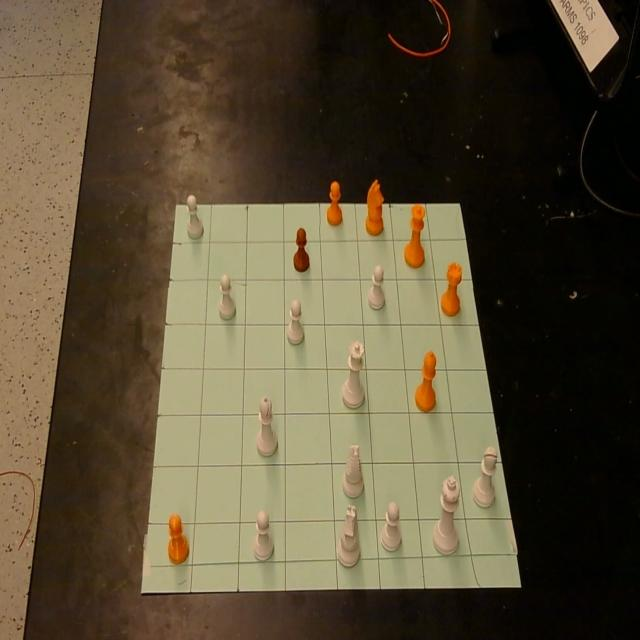orange_knight: (365, 179, 385, 236)
orange_pawn: (168, 513, 189, 564), (293, 228, 310, 273), (327, 180, 342, 226)
orange_rook: (404, 204, 426, 268), (415, 350, 437, 413), (441, 261, 462, 317)
white_bishop: (256, 394, 278, 457)
white_king: (433, 477, 460, 554)
white_knight: (337, 504, 361, 566), (342, 444, 364, 498)
white_pawn: (472, 448, 497, 508), (380, 500, 402, 552), (253, 509, 274, 561), (186, 194, 204, 240), (367, 265, 385, 310), (287, 298, 304, 345), (219, 273, 235, 319)
white_queen: (342, 342, 365, 408)
